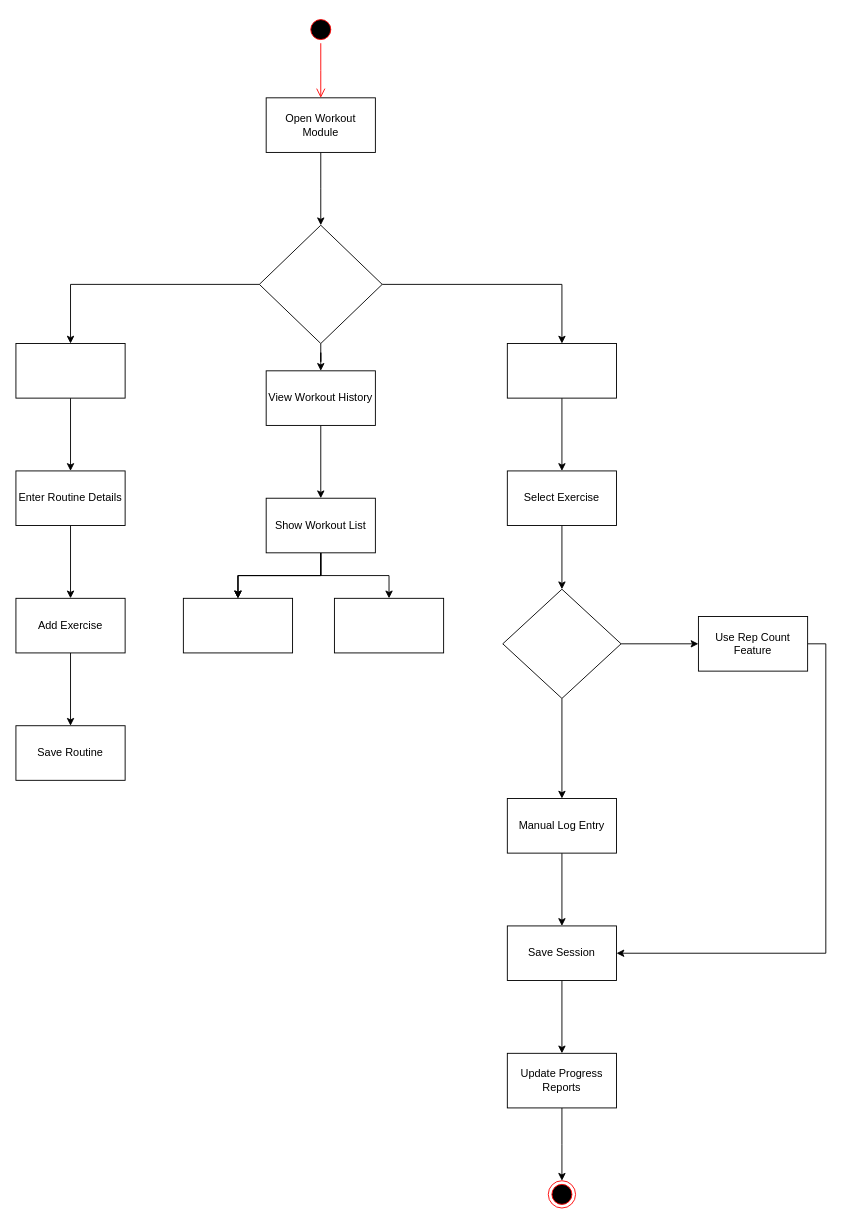
This 849x1224 diagram has some shape labels left out. Here are the shapes that lost their labels. From the top down, the box of each, then its label:
(258, 224, 382, 344): Choose Action
(15, 343, 125, 398): Create Custom Routine
(506, 343, 617, 398): Start Workout Session
(182, 597, 293, 653): Edit Workout Entry
(334, 597, 444, 653): Delete Entry
(502, 588, 621, 698): Enter Sets/Reps?
